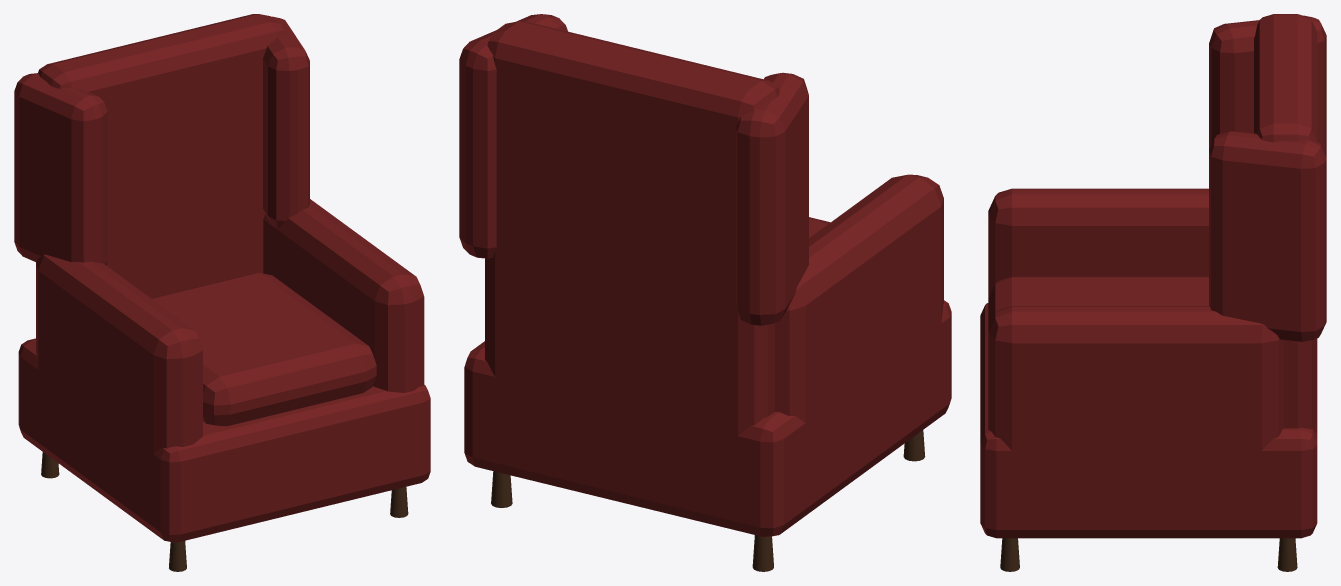
The model's file is armchair.glb.
3 views of the same model, side by side, from view 1: azimuth 30°, elevation 25°; view 2: azimuth 150°, elevation 25°; view 3: azimuth 270°, elevation 25° (orthographic). The views are drawn at different scales.
Parts seen in each view (by area): view 1: armchair; view 2: armchair; view 3: armchair.
Part boxes in pixels (x1,y1,x2,y2): armchair: (14, 14, 430, 571); armchair: (459, 14, 951, 571); armchair: (980, 14, 1326, 571).
Bounding box in the file's own units: 0.8567 × 1.23 × 0.8733.
